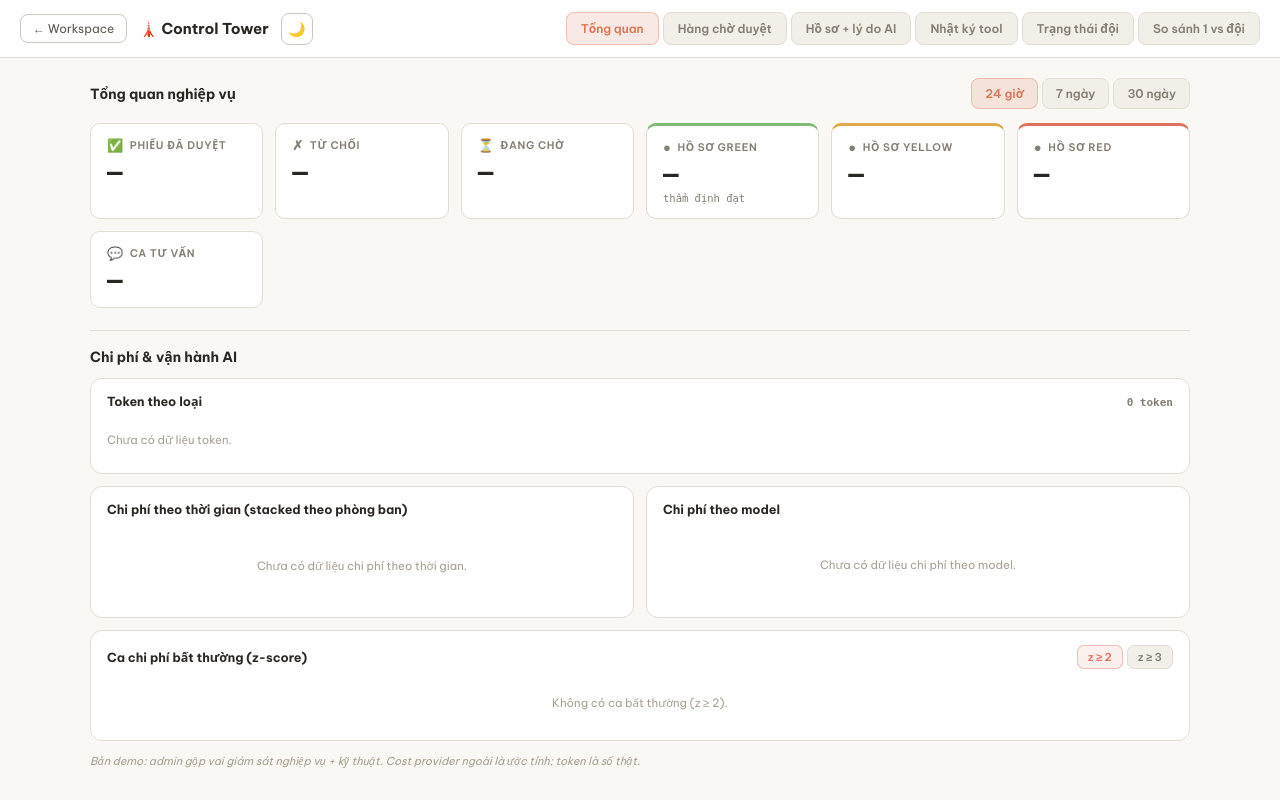
it: ControlTower › DF-B-03: tab Trạng thái có ca lỗi → list ca lỗi (tiêu đề + mã ca)
The width and height of the screenshot is (1280, 800).
Step 1. Click the button "Trạng thái đội" → [1078, 28], box x1=1022 y1=12 x2=1134 y2=45
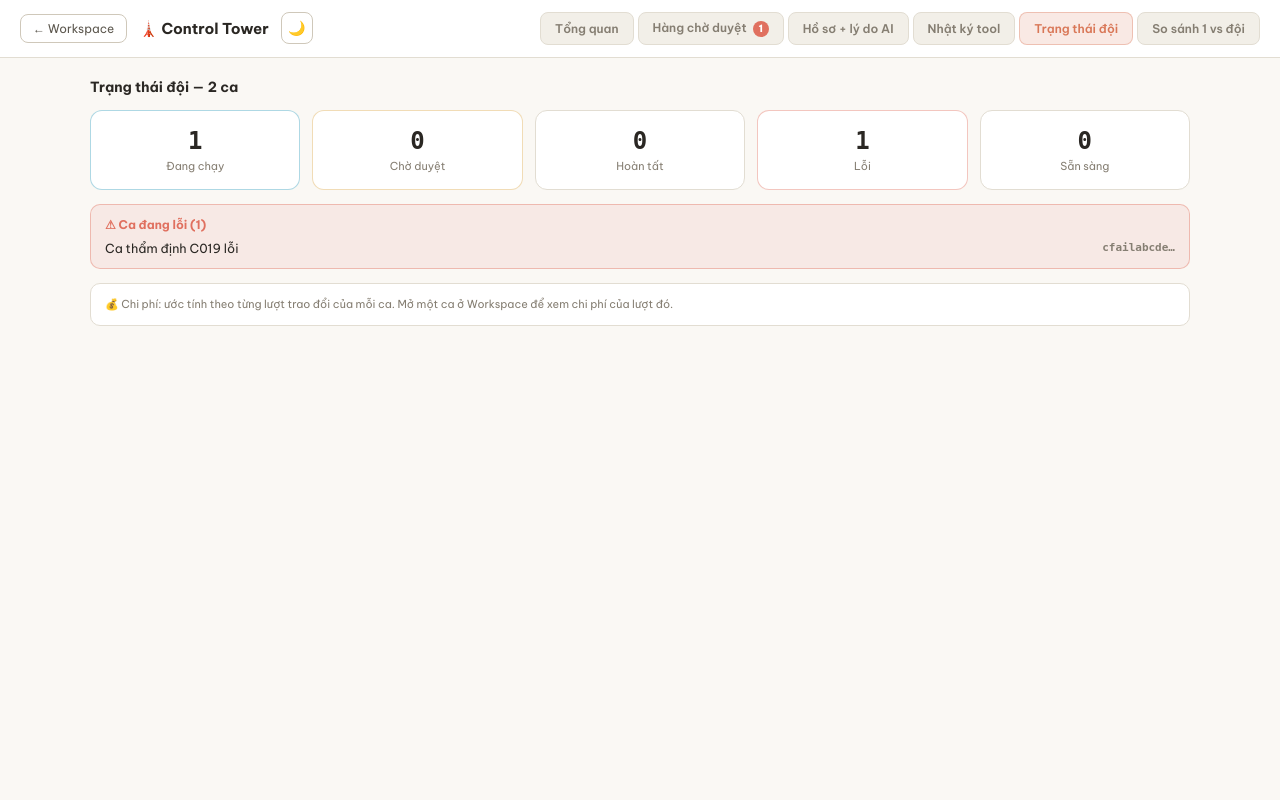
Now the element with test id "failed-list" is shown, box x1=90 y1=204 x2=1190 y2=269
Now the text "⚠ Ca đang lỗi (1)" is shown, box x1=105 y1=217 x2=206 y2=232
Now the list item with test id "failed-row-cfailabcdef123456" is shown, box x1=105 y1=240 x2=1175 y2=256
